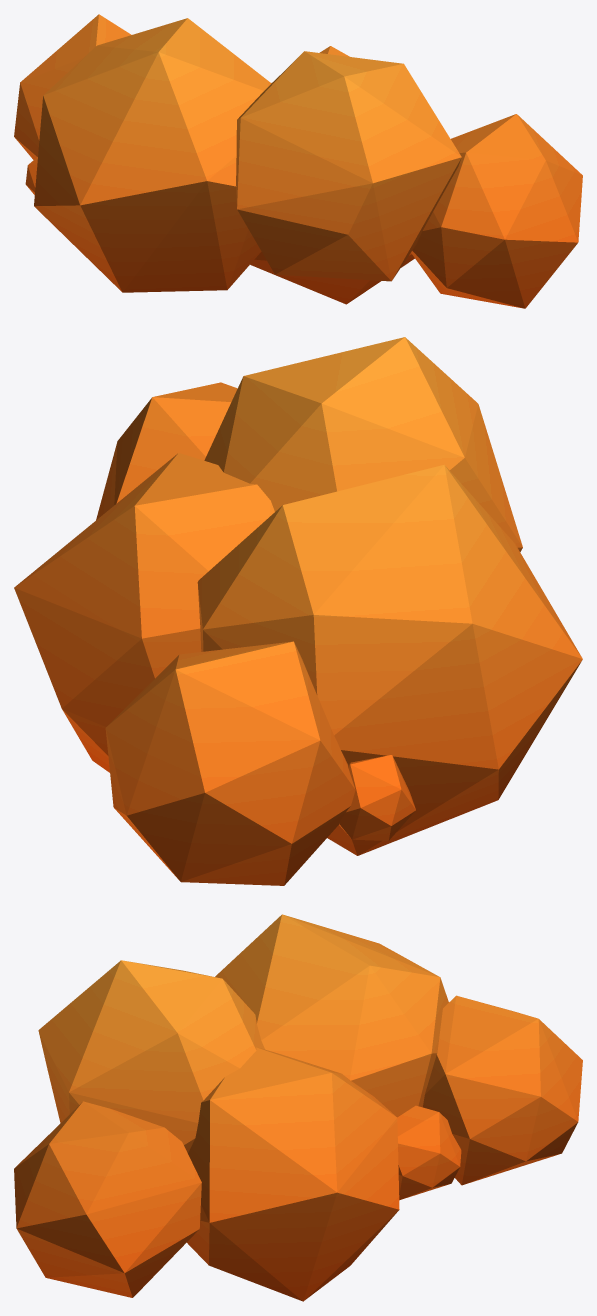
File: Leaves1.glb
3 views of the same model, one above another, from view 1: azimuth 30°, elevation 25°; view 2: azimuth 150°, elevation 25°; view 3: azimuth 270°, elevation 25° (orthographic). The views are drawn at different scales.
Parts seen in each view (by area): view 1: Icosphere.001, Icosphere.002, Icosphere.003, Icosphere, Icosphere.004; view 2: Icosphere.001, Icosphere, Icosphere.004, Icosphere.002, Icosphere.003, Icosphere.006; view 3: Icosphere.004, Icosphere.001, Icosphere.003, Icosphere.002, Icosphere, Icosphere.005.
Boxes of the visible parts, box(x1,y1,x2,y2) form: Icosphere.001: box(34, 18, 271, 292); Icosphere.002: box(236, 51, 461, 281); Icosphere.003: box(411, 114, 582, 308); Icosphere: box(14, 14, 131, 159); Icosphere.004: box(250, 46, 414, 304); Icosphere.001: box(197, 464, 582, 855); Icosphere: box(105, 641, 355, 885); Icosphere.004: box(14, 453, 274, 772); Icosphere.002: box(204, 337, 522, 551); Icosphere.003: box(96, 382, 237, 519); Icosphere.006: box(339, 755, 415, 840); Icosphere.004: box(187, 1047, 399, 1301); Icosphere.001: box(215, 914, 448, 1117); Icosphere.003: box(14, 1101, 201, 1297); Icosphere.002: box(38, 960, 264, 1153); Icosphere: box(423, 995, 582, 1185); Icosphere.005: box(397, 1105, 461, 1200).
Bounding box in the file's own units: 6.97 × 4.43 × 8.05.
1 material, 1 textured.
